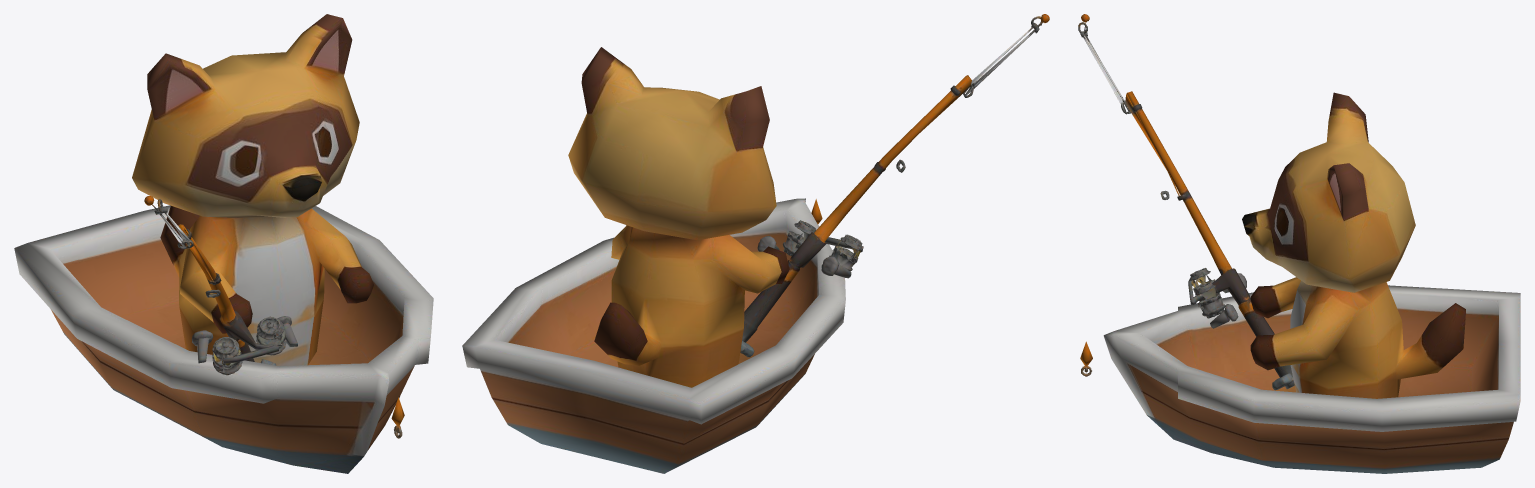
The model's file is barque-2.glb.
3 renders of one model, left to right at view 1: azimuth 30°, elevation 25°; view 2: azimuth 150°, elevation 25°; view 3: azimuth 270°, elevation 25°, orthographic. The views are drawn at different scales.
Parts seen in each view (by area): view 1: tripo_node_12a6cbb3-31c3-4cca-954e-e1f2e740a32a; view 2: tripo_node_12a6cbb3-31c3-4cca-954e-e1f2e740a32a; view 3: tripo_node_12a6cbb3-31c3-4cca-954e-e1f2e740a32a.
Part boxes in pixels (box(x1,y1,x2,y2)): tripo_node_12a6cbb3-31c3-4cca-954e-e1f2e740a32a: box(14, 14, 433, 473); tripo_node_12a6cbb3-31c3-4cca-954e-e1f2e740a32a: box(462, 14, 1049, 473); tripo_node_12a6cbb3-31c3-4cca-954e-e1f2e740a32a: box(1078, 14, 1520, 473).
Size of the model in its own units: 0.4548 by 0.4 by 0.4998.
Materials: 1 (1 with a texture image).
